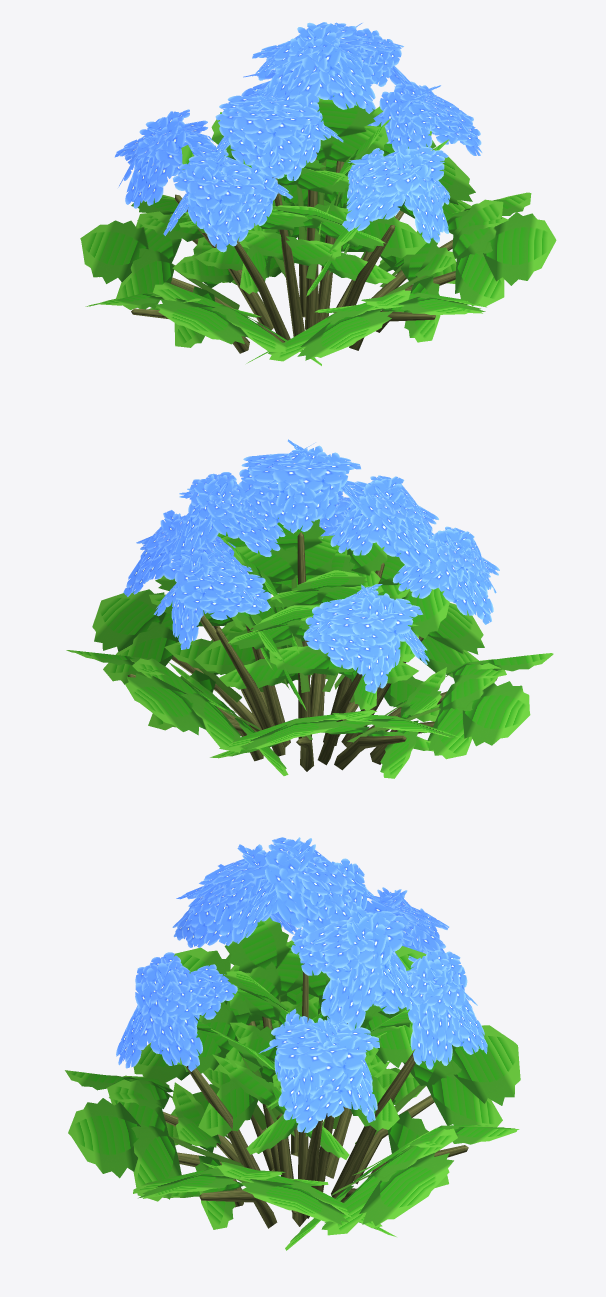
Rendered from hydrangea.glb.
The picture shows the model from 3 angles, top to bottom: view 1: azimuth 30°, elevation 25°; view 2: azimuth 150°, elevation 25°; view 3: azimuth 270°, elevation 25°; orthographic projection. The views are drawn at different scales.
Visible parts, largest first — view 1: HydrangeaFoliage, HydrangeaStems; view 2: HydrangeaFoliage, HydrangeaStems; view 3: HydrangeaFoliage, HydrangeaStems.
Boxes of the visible parts, <box> form: HydrangeaFoliage: <box>80,22,556,365</box>; HydrangeaStems: <box>131,152,455,353</box>; HydrangeaFoliage: <box>66,439,553,778</box>; HydrangeaStems: <box>127,532,497,771</box>; HydrangeaFoliage: <box>65,837,520,1250</box>; HydrangeaStems: <box>163,963,468,1228</box>.
Bounding box in the file's own units: 1.1 × 0.63 × 0.9.
2 materials, 2 textured.
